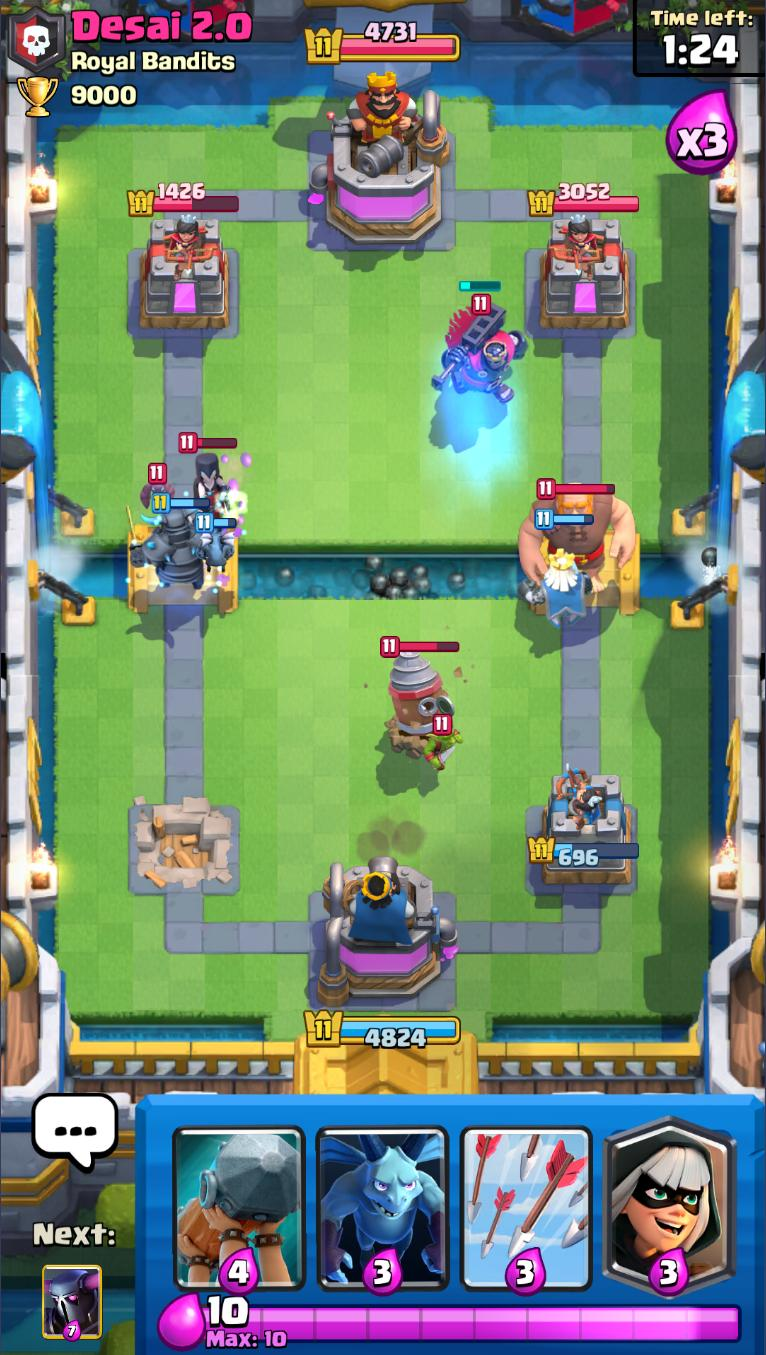ArrowDeck: (454, 1096, 600, 1296)
BanditDeck: (597, 1094, 741, 1299)
Bat: (140, 464, 176, 510)
BattleRamDeck: (166, 1096, 311, 1294)
Elixir: (203, 1294, 744, 1351)
EnemyTower: (136, 214, 234, 334), (539, 214, 633, 333)
Giant: (517, 479, 637, 591)
Goblin: (424, 716, 461, 769)
GoblinDrill: (380, 636, 459, 760)
KingTower: (309, 79, 454, 250)
KingTowerHP: (307, 20, 461, 64)
MinionsDeck: (313, 1099, 451, 1297)
MyKingHP: (303, 1007, 463, 1050)
MyKingTower: (314, 859, 460, 1011)
MyMinion: (194, 510, 240, 574)
MyPekka: (124, 491, 213, 591)
MyPrincessTower: (527, 771, 641, 889)
MyPrincessTowerBrocken: (124, 793, 240, 893)
MyPrincessTowerHP: (526, 834, 641, 866)
MyRoyaleGhost: (524, 509, 594, 627)
NightWitch: (179, 431, 237, 514)
PekkaNext: (41, 1264, 103, 1343)
PrincessTower: (147, 217, 206, 266), (550, 217, 604, 266)
SkeletonKing: (431, 281, 527, 406)
TowerPrincessHP: (127, 181, 240, 217), (530, 183, 641, 217)
